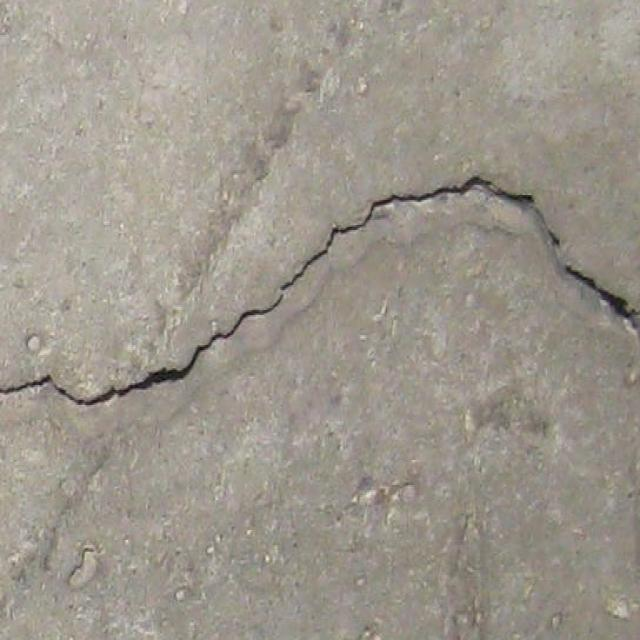Diagonal: (195, 164, 455, 353), (461, 163, 640, 342)
Transverse: (3, 346, 193, 421)
